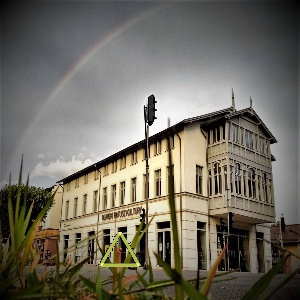triangle: (98, 229, 143, 270)
